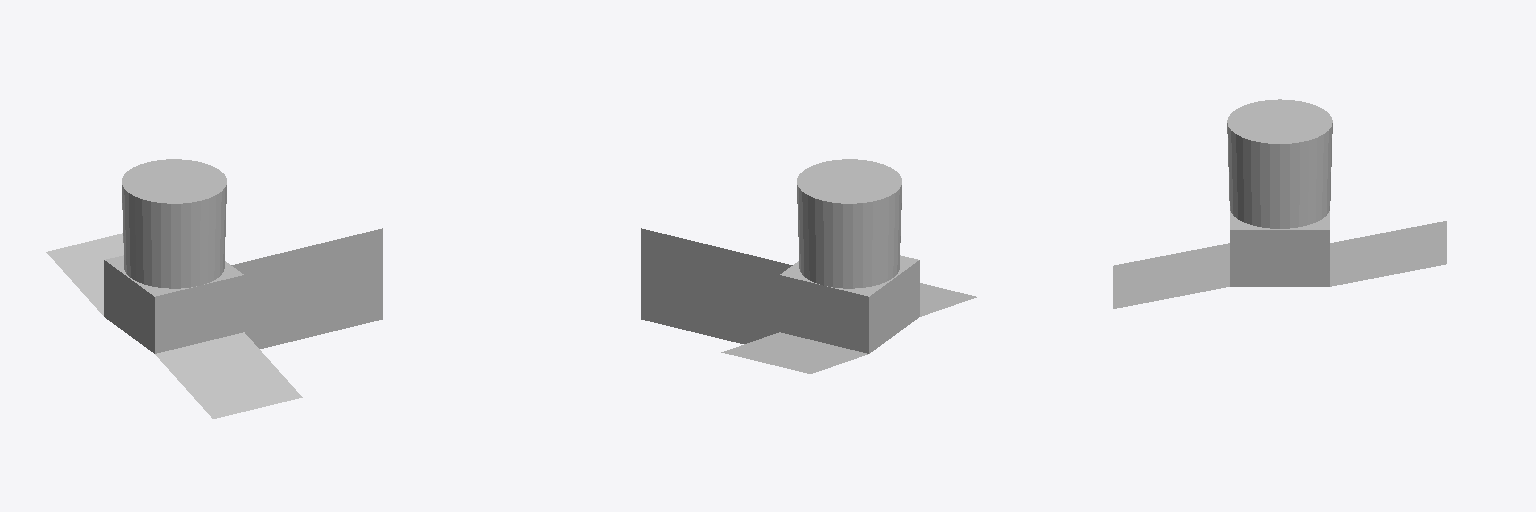
File: CIV-Fr90-Sf12.obj
3 views of the same model, side by side, from view 1: azimuth 30°, elevation 25°; view 2: azimuth 150°, elevation 25°; view 3: azimuth 270°, elevation 25° (orthographic).
Parts seen in each view (by area): view 1: 27U_combined_case_straight_solar.001, 27U_combined_case_straight_solar.000, 27U_combined_case_straight_solar.002, 27U_combined_case_straight_solar.003; view 2: 27U_combined_case_straight_solar.001, 27U_combined_case_straight_solar.000, 27U_combined_case_straight_solar.003, 27U_combined_case_straight_solar.002; view 3: 27U_combined_case_straight_solar.001, 27U_combined_case_straight_solar.002, 27U_combined_case_straight_solar.003.
Part boxes in pixels (left/top/right/bottom): 27U_combined_case_straight_solar.001: left=104, top=159, right=243, bottom=353; 27U_combined_case_straight_solar.000: left=231, top=228, right=382, bottom=348; 27U_combined_case_straight_solar.002: left=155, top=332, right=302, bottom=418; 27U_combined_case_straight_solar.003: left=46, top=233, right=123, bottom=315; 27U_combined_case_straight_solar.001: left=780, top=159, right=919, bottom=353; 27U_combined_case_straight_solar.000: left=641, top=228, right=792, bottom=343; 27U_combined_case_straight_solar.003: left=721, top=332, right=867, bottom=373; 27U_combined_case_straight_solar.002: left=920, top=283, right=976, bottom=316; 27U_combined_case_straight_solar.001: left=1227, top=99, right=1332, bottom=286; 27U_combined_case_straight_solar.002: left=1113, top=243, right=1229, bottom=308; 27U_combined_case_straight_solar.003: left=1330, top=221, right=1446, bottom=286.
Bounding box in the file's own units: 1.02 × 0.725 × 1.16.